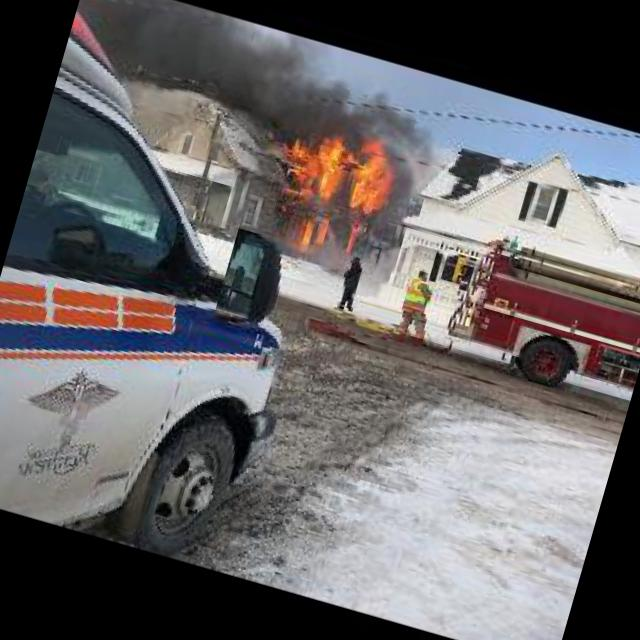fire: (255, 114, 401, 264)
smoke: (172, 5, 450, 148), (381, 112, 458, 225)
